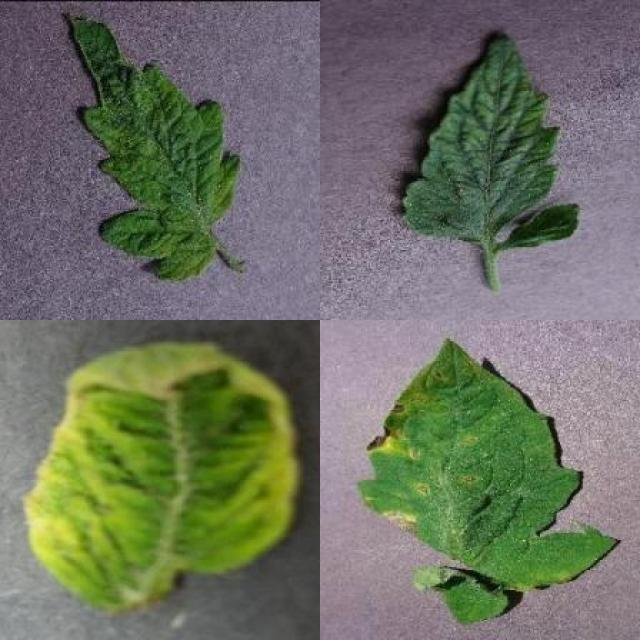Mosaic Virus: (66, 10, 244, 284), (398, 31, 582, 253)
Septoria: (355, 336, 618, 586)
Yellow Leaf Curl Virus: (23, 340, 300, 613)
